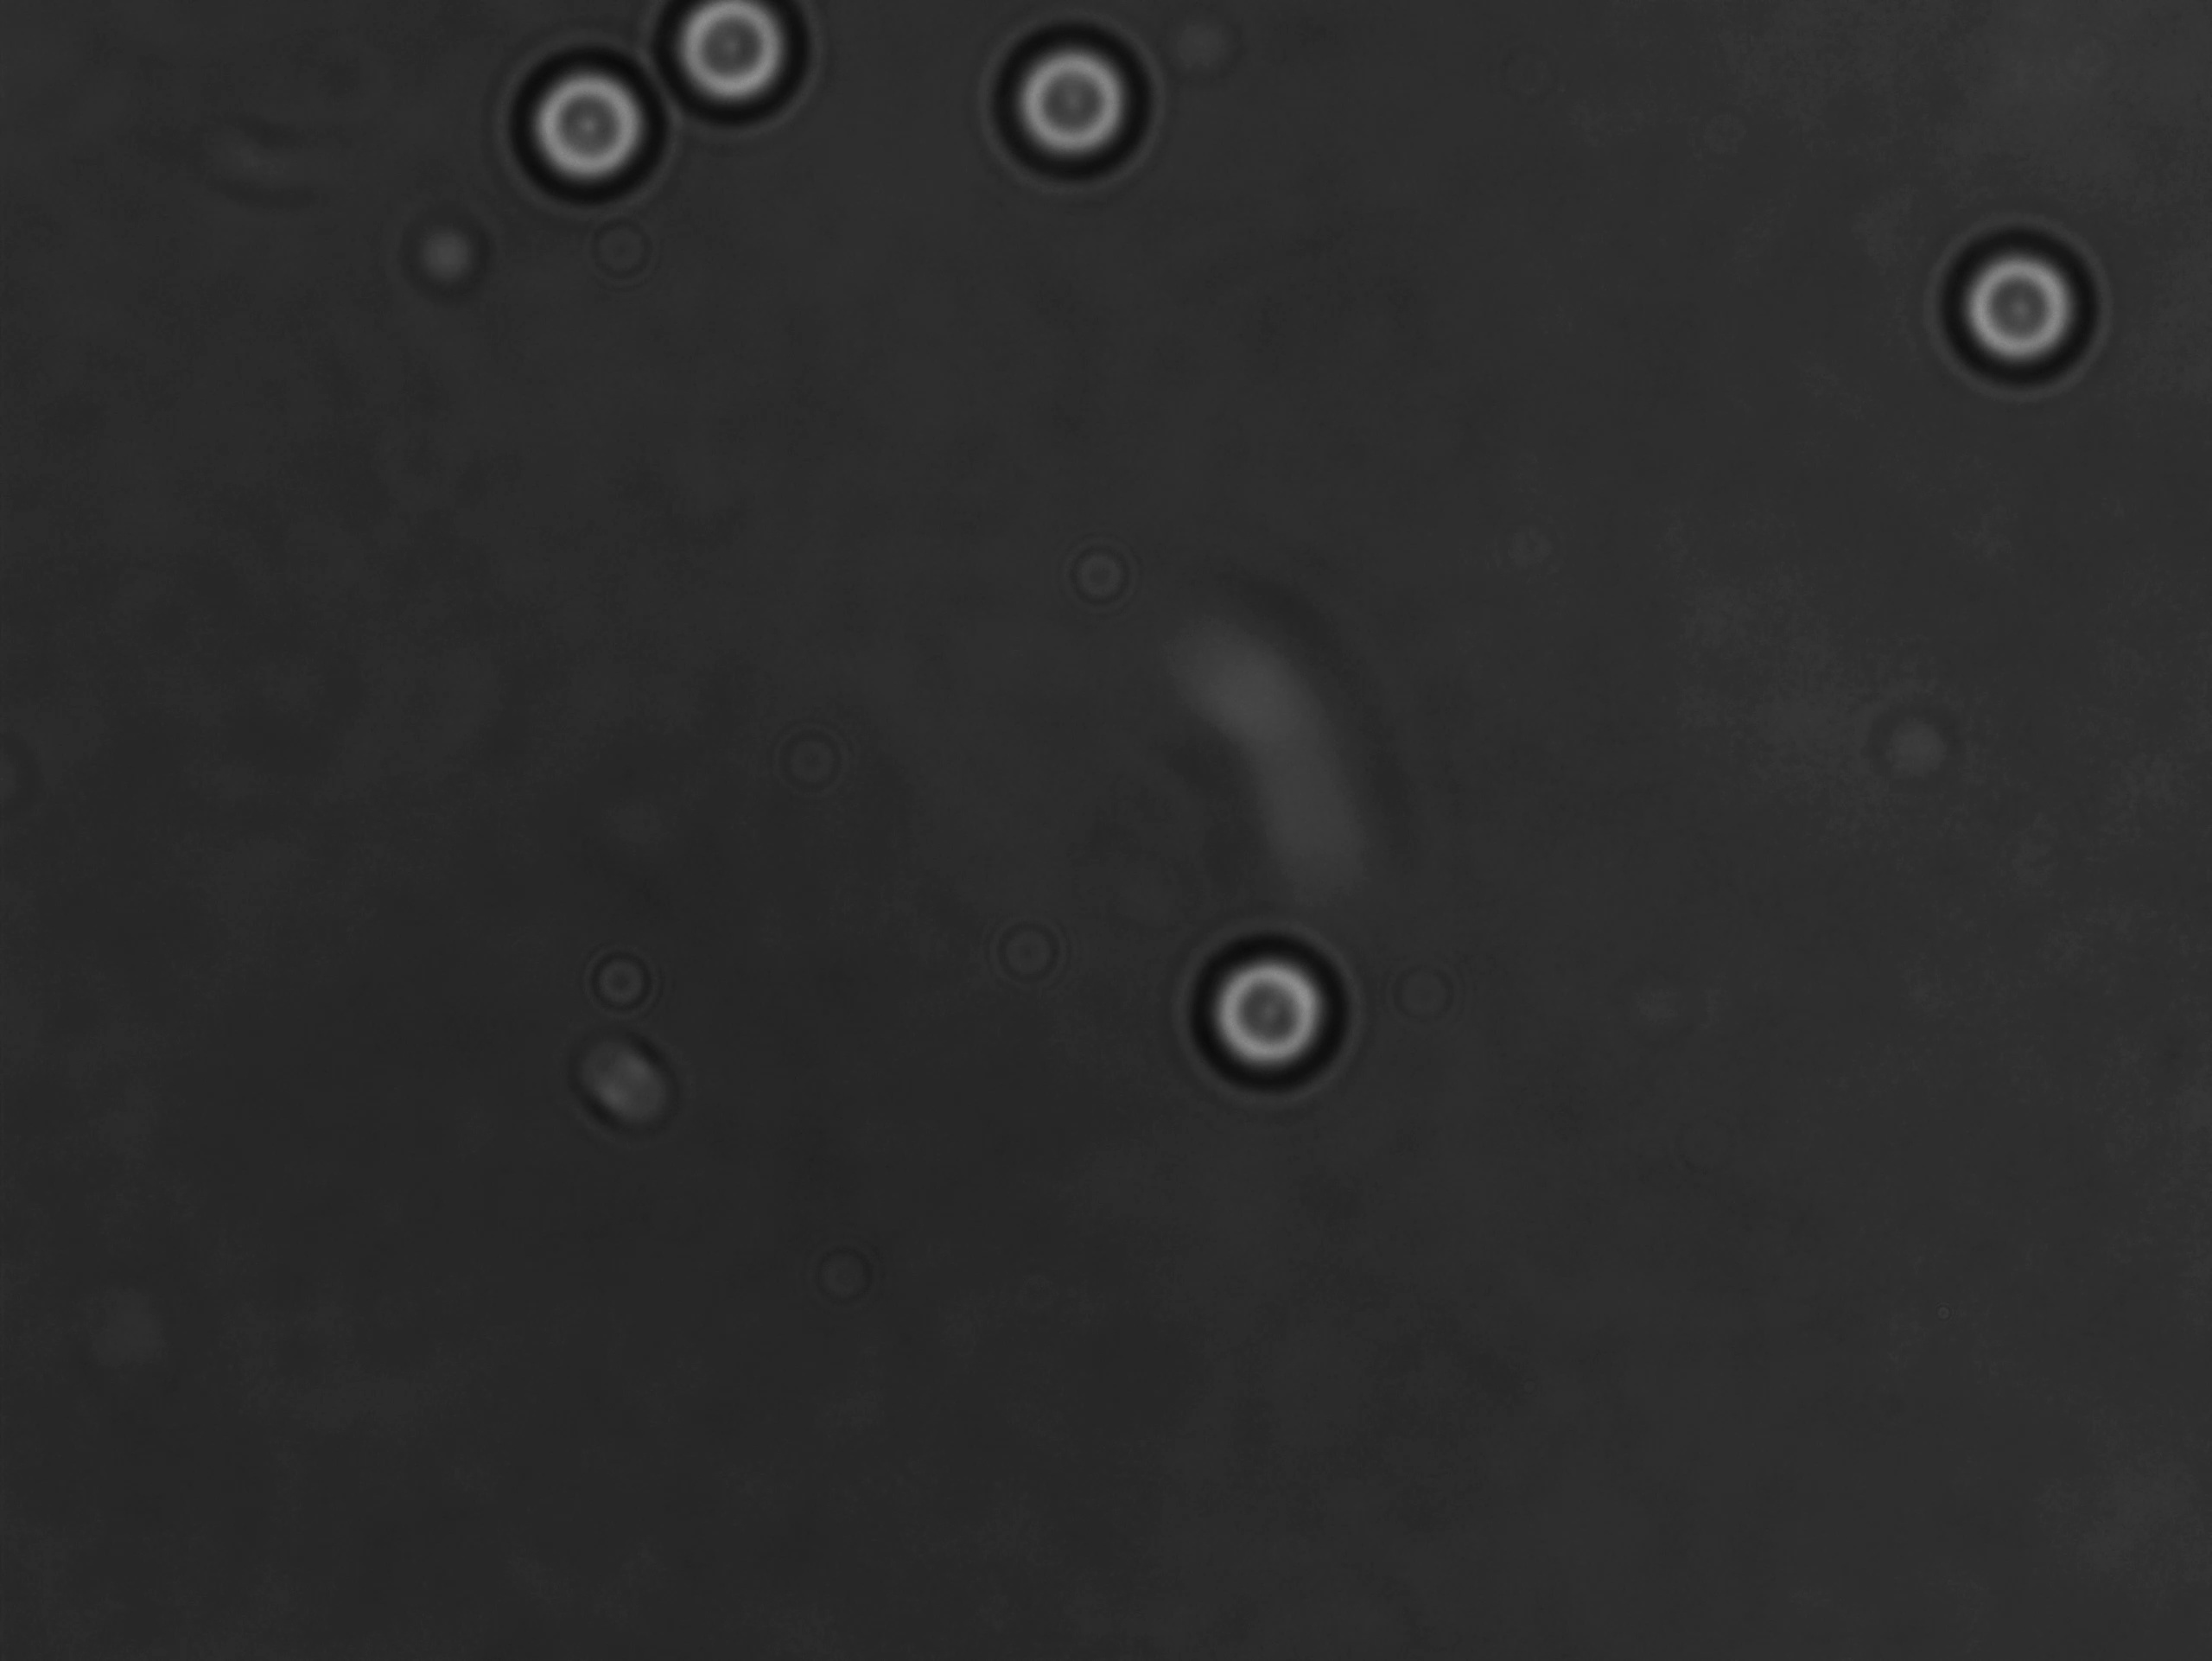depth:20: (1181, 909, 1361, 1089), (993, 26, 1165, 183), (513, 58, 700, 195), (1938, 227, 2095, 387)
